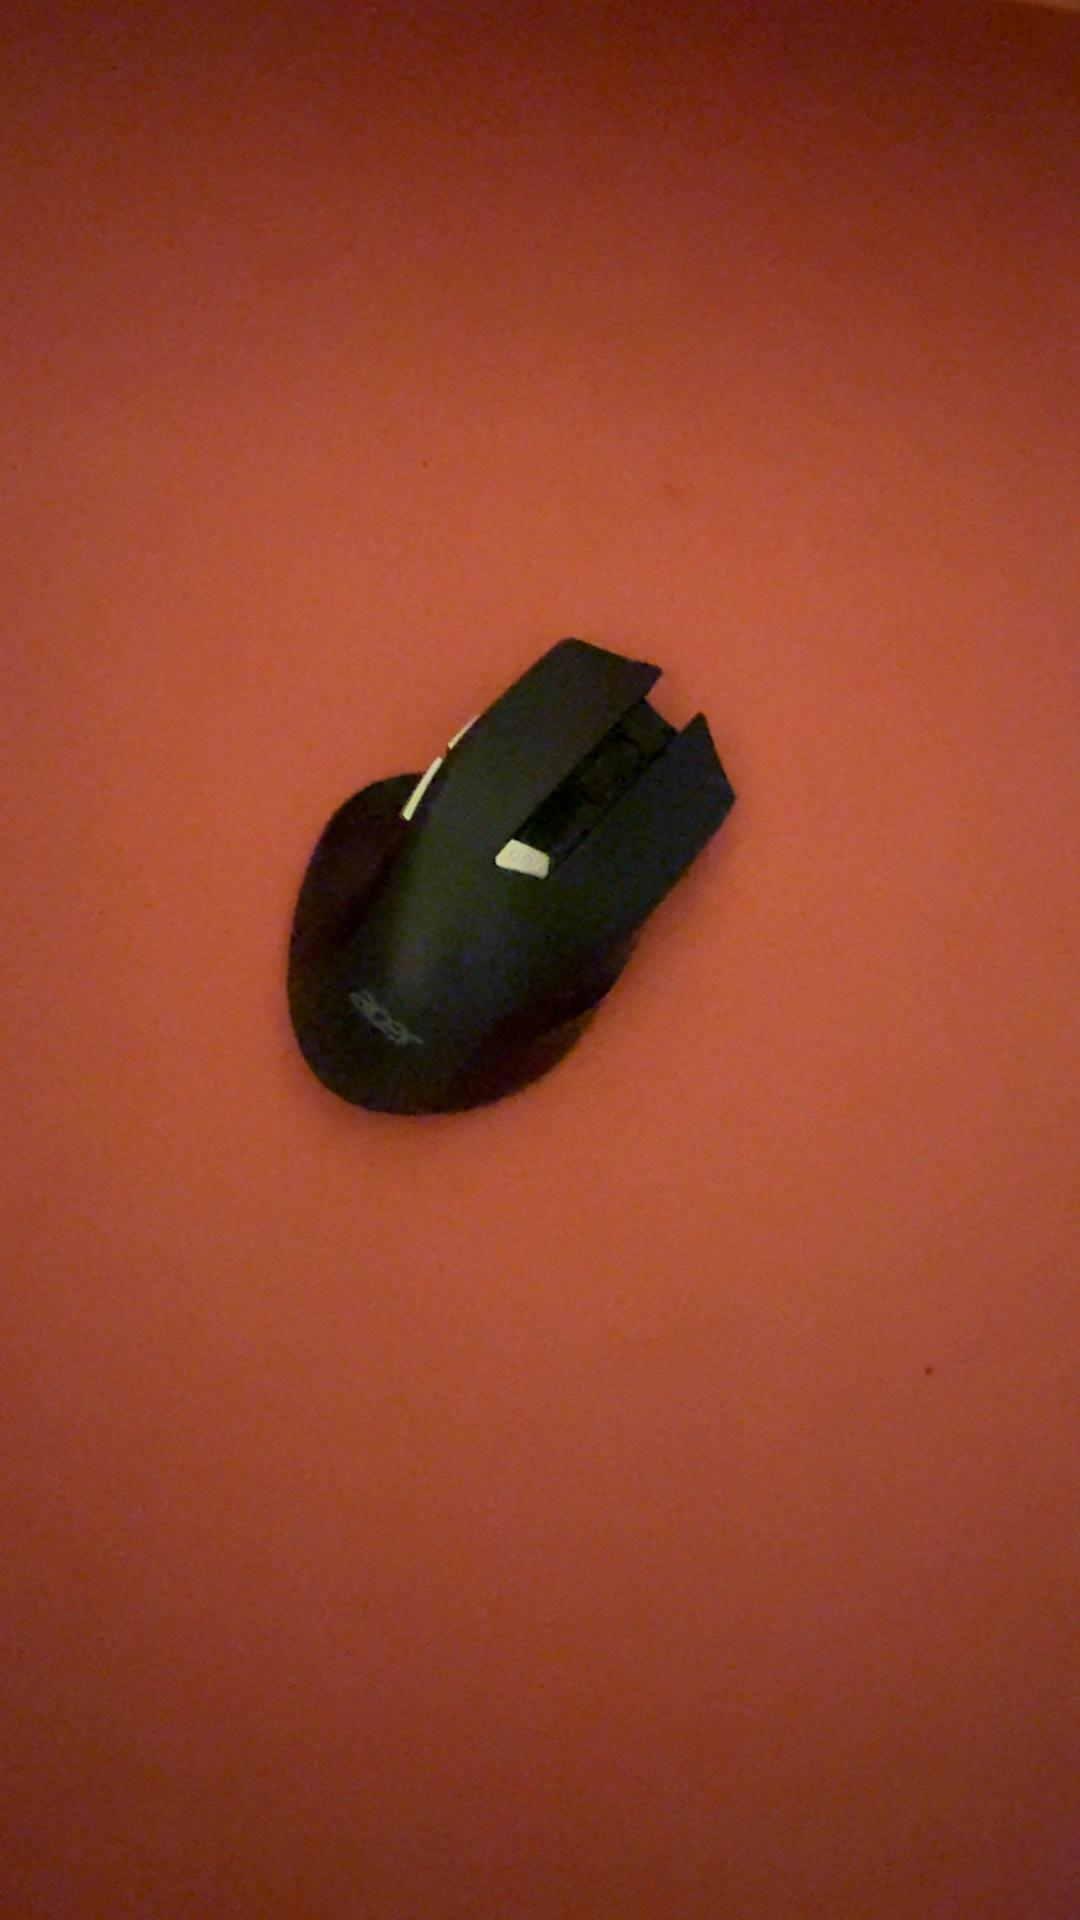Aulaf75: (287, 550, 781, 1228)
